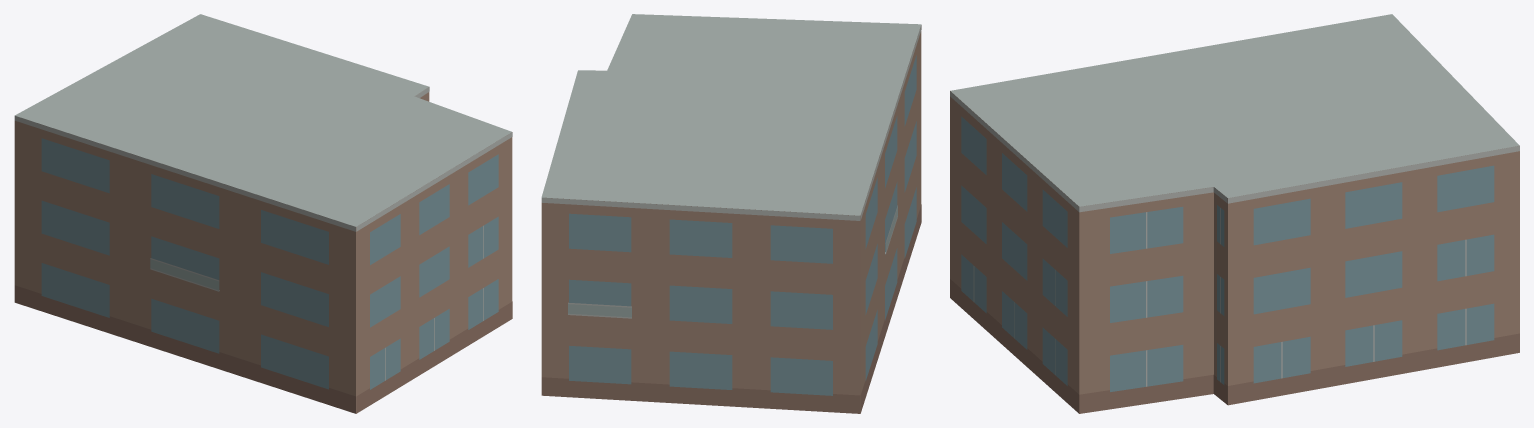
File: survey-upis-32710154.glb
The picture shows the model from 3 angles, left to right: view 1: azimuth 30°, elevation 25°; view 2: azimuth 150°, elevation 25°; view 3: azimuth 270°, elevation 25°; orthographic projection. The views are drawn at different scales.
Parts seen in each view (by area): view 1: survey-upis-32710154.tmp; view 2: survey-upis-32710154.tmp; view 3: survey-upis-32710154.tmp.
Part boxes in pixels (x1=…): survey-upis-32710154.tmp: x1=14, y1=14, x2=512, y2=413; survey-upis-32710154.tmp: x1=541, y1=14, x2=921, y2=413; survey-upis-32710154.tmp: x1=950, y1=14, x2=1519, y2=413.
Bounding box in the file's own units: 18.28 × 9.15 × 22.82.
